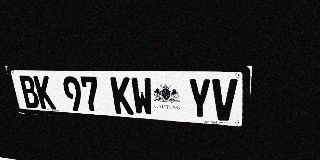7: (79, 76, 102, 113)
9: (61, 76, 85, 111)
B: (18, 75, 41, 109)
K: (110, 77, 134, 115), (33, 76, 56, 110)
V: (212, 78, 238, 121)
W: (130, 77, 154, 116)
Y: (187, 78, 211, 120)
